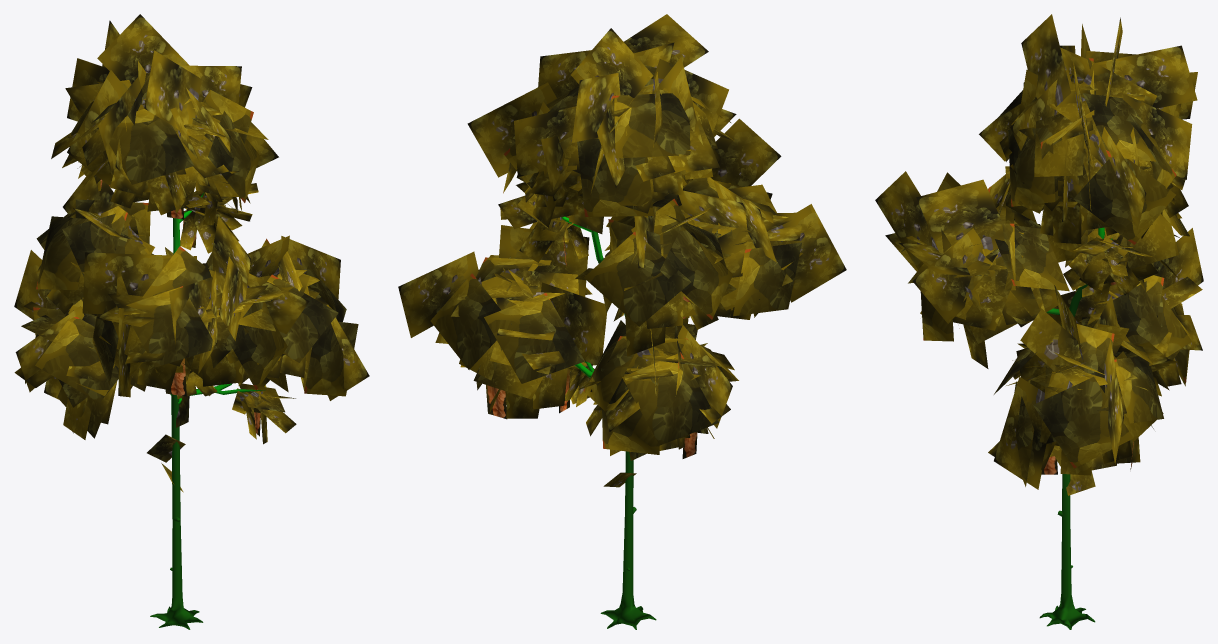
Rendered from hvs_trees_birch02_lod2.fbx.
The picture shows the model from 3 angles, left to right: view 1: azimuth 30°, elevation 25°; view 2: azimuth 150°, elevation 25°; view 3: azimuth 270°, elevation 25°; orthographic projection. The views are drawn at different scales.
Visible parts, largest first — view 1: hvs_trees_birch02_lod2; view 2: hvs_trees_birch02_lod2; view 3: hvs_trees_birch02_lod2.
Part boxes in pixels (bbox=[...]): hvs_trees_birch02_lod2: bbox=[14, 14, 369, 629]; hvs_trees_birch02_lod2: bbox=[398, 14, 846, 629]; hvs_trees_birch02_lod2: bbox=[875, 14, 1203, 629].
Size of the model in its own units: 52.99 by 91.62 by 45.63.
